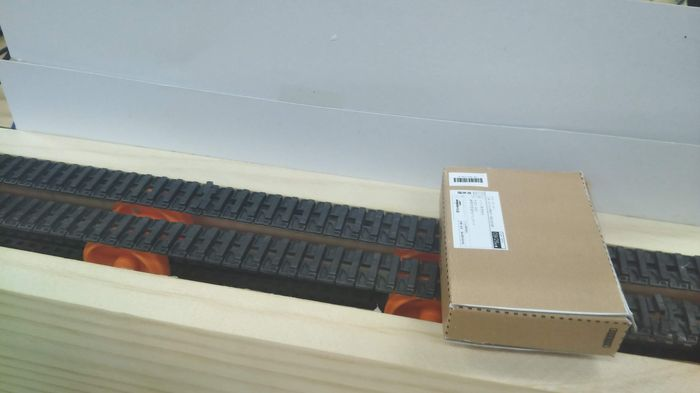box2: (434, 160, 635, 360)
